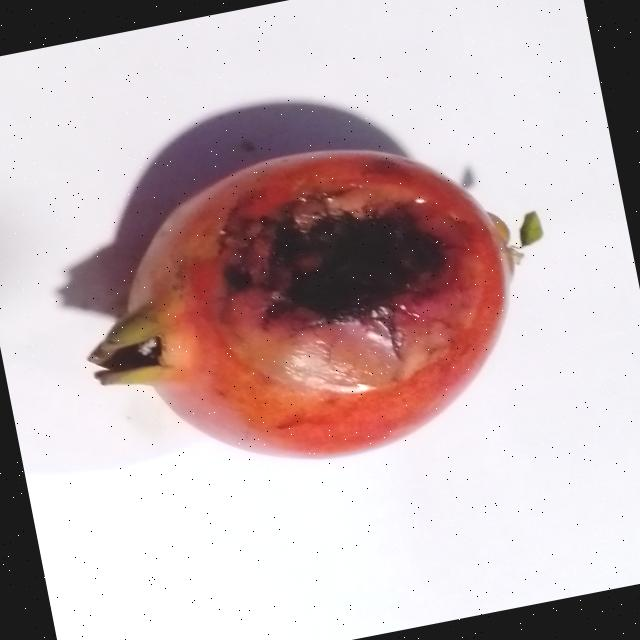Rotten: (57, 112, 558, 503)
